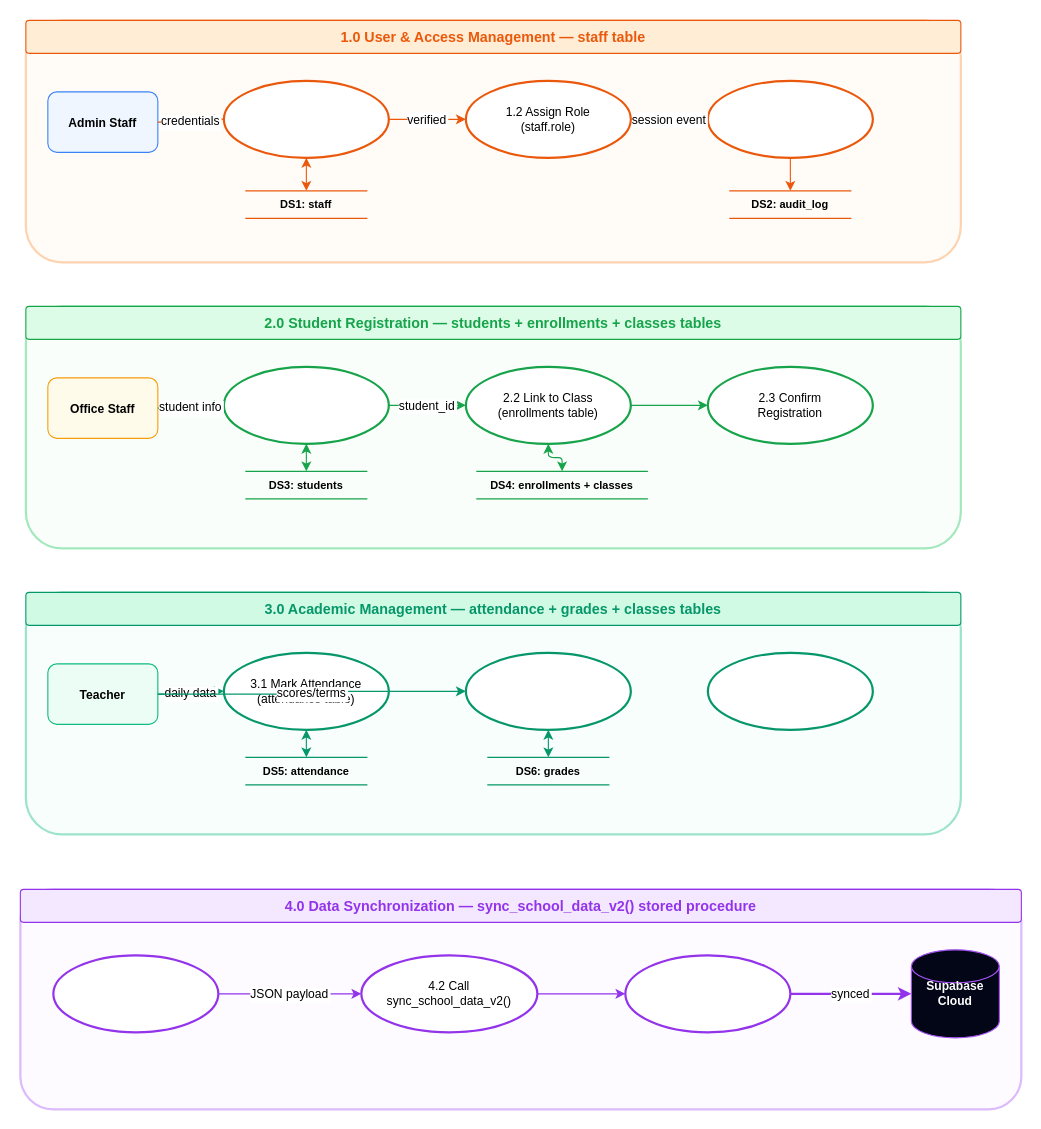
Some shapes in this 1041 by 1129 pixel diagram are drawn without their labels. Each missing label, with the centre of its shape:
"1.1 Authenticate (staff.password)" belongs at (305,118).
"1.3 Log to audit_log" belongs at (789,118).
"2.1 Create Student (students table)" belongs at (305,404).
"3.2 Record Grades (grades table)" belongs at (547,690).
"3.3 View Class (classes + enrollments)" belongs at (789,690).
"4.1 Collect All Local Records" belongs at (135,993).
"4.3 Upsert to Supabase Tables" belongs at (707,993).
